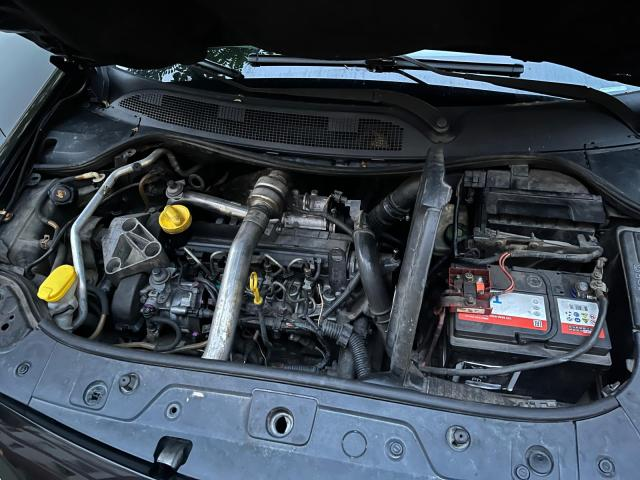accumulator: (420, 259, 611, 402)
antifreeze_tank: (0, 180, 76, 268)
fuse_box: (618, 228, 640, 330)
high_pressure_pump: (145, 276, 214, 334)
